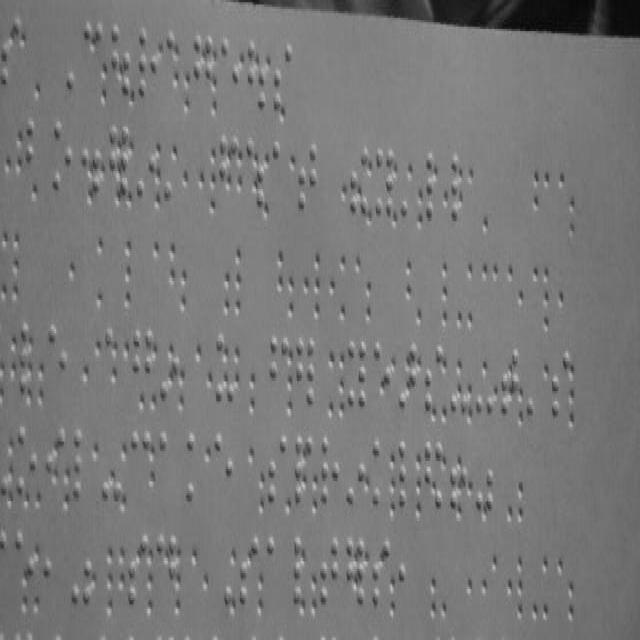braiile: (128, 426, 152, 506), (156, 428, 180, 506), (46, 320, 68, 404), (185, 428, 207, 506), (212, 428, 234, 506), (24, 116, 48, 186), (51, 118, 73, 194), (266, 433, 288, 509), (297, 137, 317, 219), (266, 532, 288, 606), (318, 533, 339, 609), (272, 139, 292, 217), (269, 334, 289, 412), (72, 426, 92, 504), (138, 24, 158, 100), (133, 324, 153, 400), (320, 433, 340, 509), (347, 338, 367, 413), (374, 145, 394, 219), (16, 422, 36, 494), (424, 342, 444, 413), (398, 438, 418, 509), (372, 436, 391, 506), (552, 349, 570, 420)
